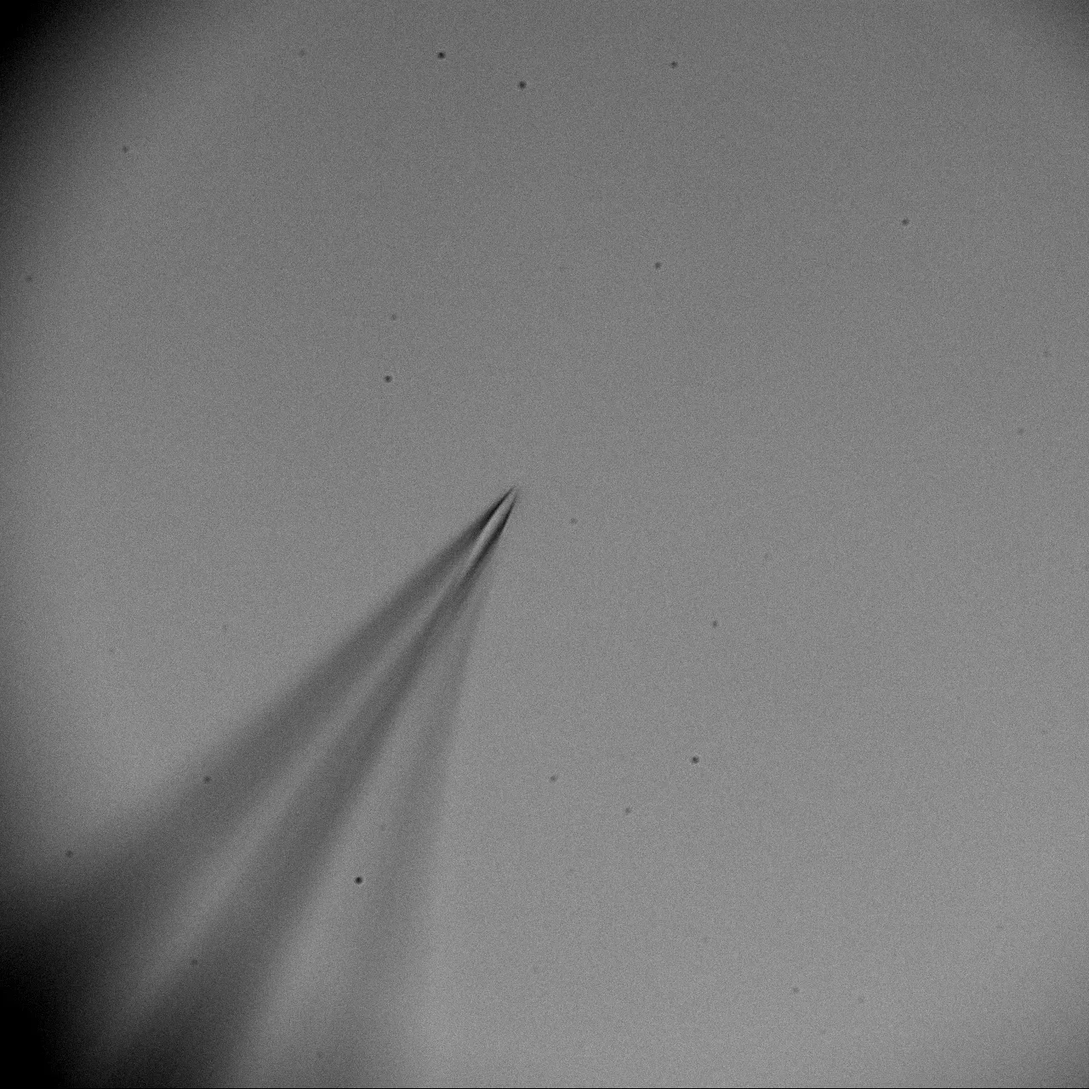tip: (425, 475, 538, 613)
